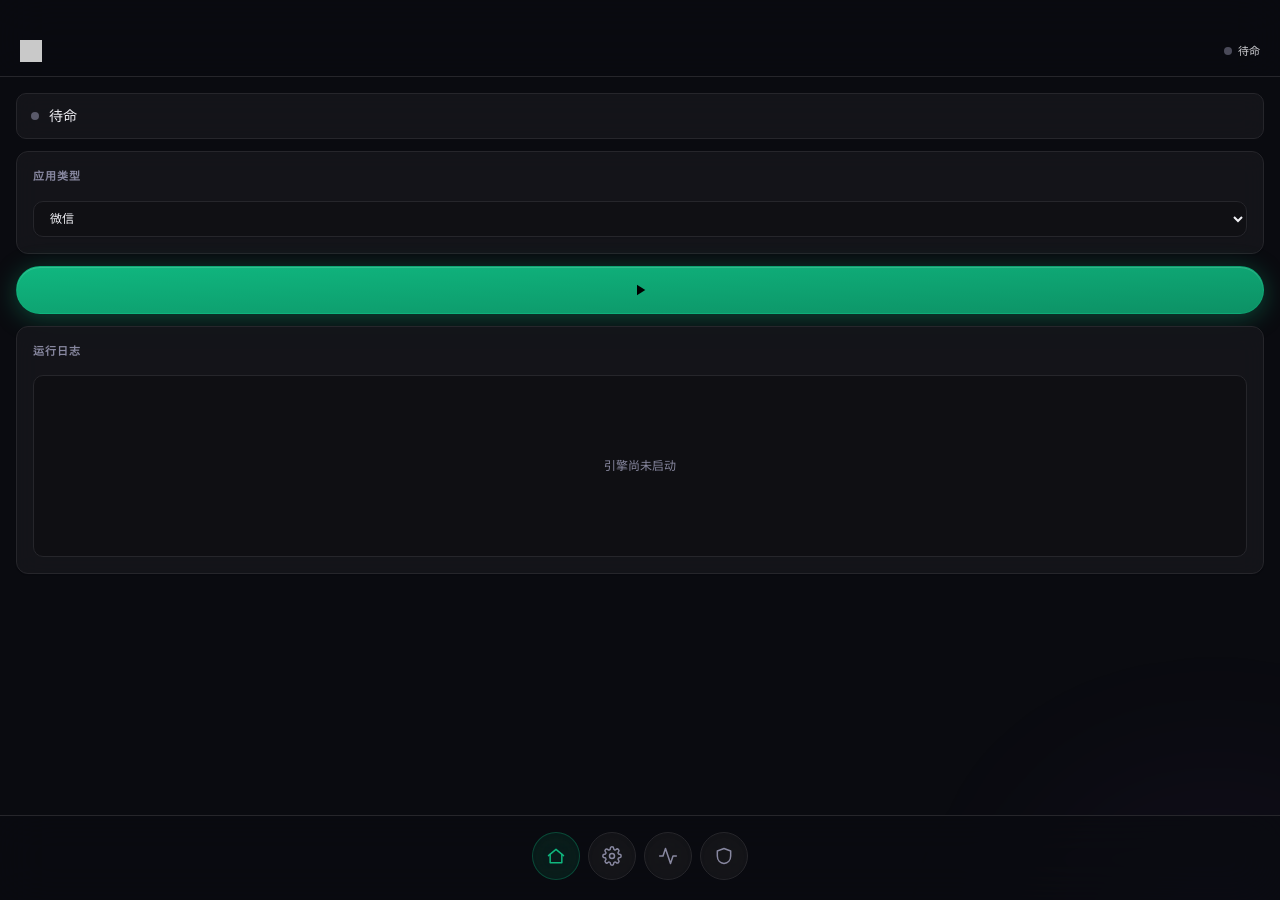
it: Engine controls › shows a toast and stays Idle when starting without an API Key
Step 1. Click the button with test id "control-start" → click(640, 290), box left=16, top=266, right=1264, bottom=314
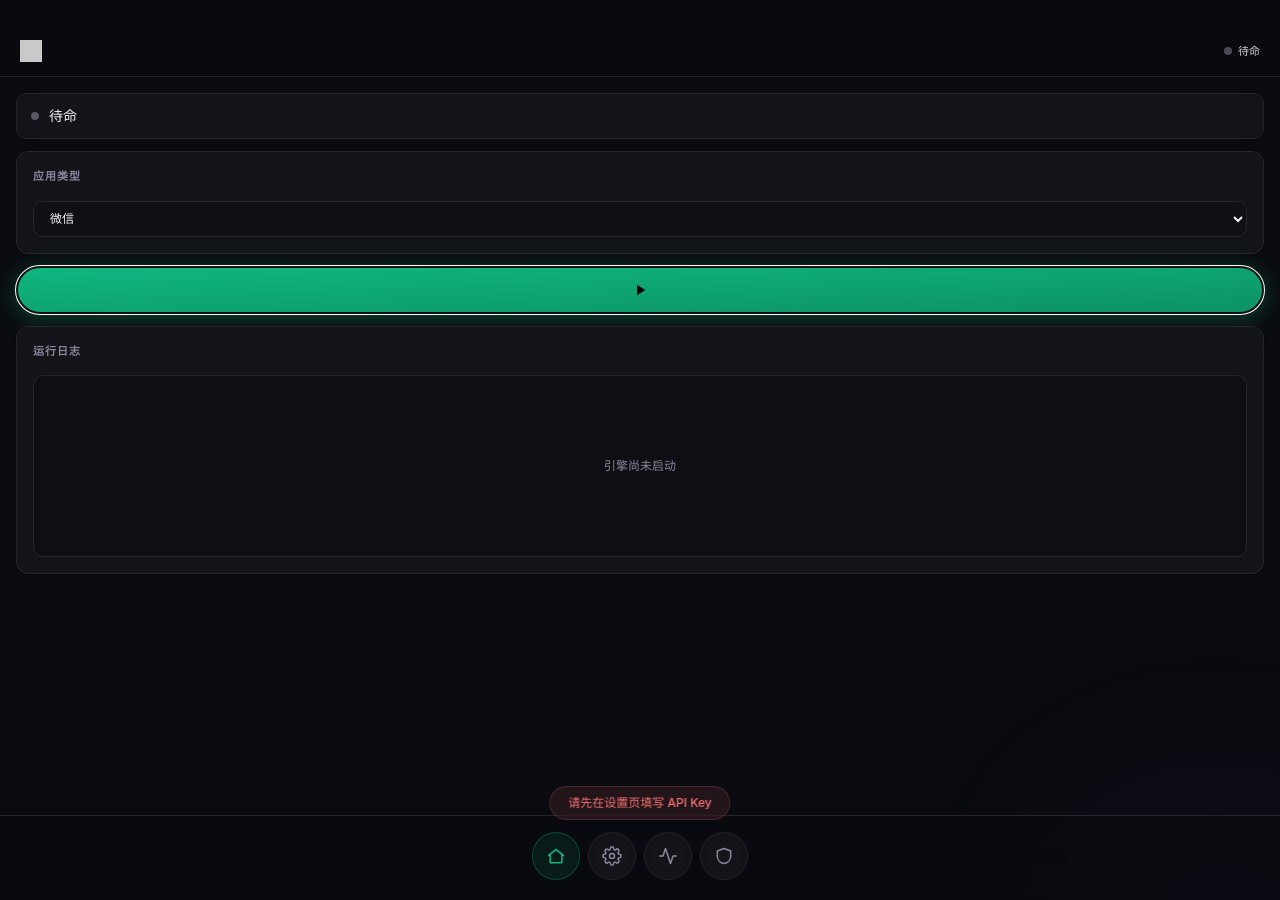
Result: the text with test id "toast" reads "请先在设置页填写 API Key" at left=568, top=795, right=712, bottom=810
